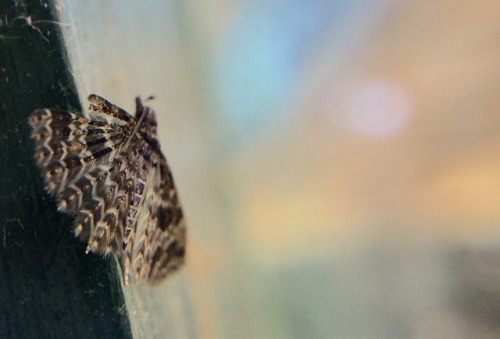Alucitidae: (27, 87, 187, 292)
moth: (25, 85, 185, 290)
